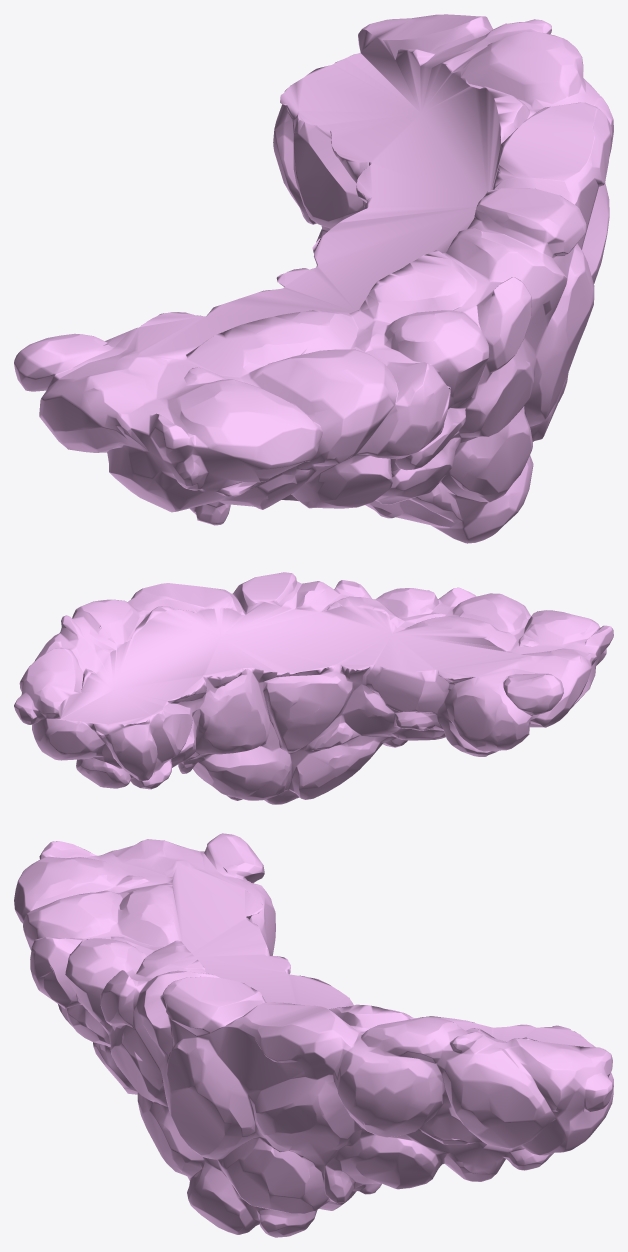
The model's file is island_8_LOD1.fbx.
3 views of the same model, one above another, from view 1: azimuth 30°, elevation 25°; view 2: azimuth 150°, elevation 25°; view 3: azimuth 270°, elevation 25° (orthographic). The views are drawn at different scales.
Visible parts, largest first — view 1: island_8_LOD1; view 2: island_8_LOD1; view 3: island_8_LOD1.
Boxes of the visible parts, x1=… form: island_8_LOD1: x1=14, y1=14, x2=613, y2=543; island_8_LOD1: x1=14, y1=572, x2=613, y2=804; island_8_LOD1: x1=14, y1=833, x2=613, y2=1237.
Bounding box in the file's own units: 2108 × 1031 × 2063.
